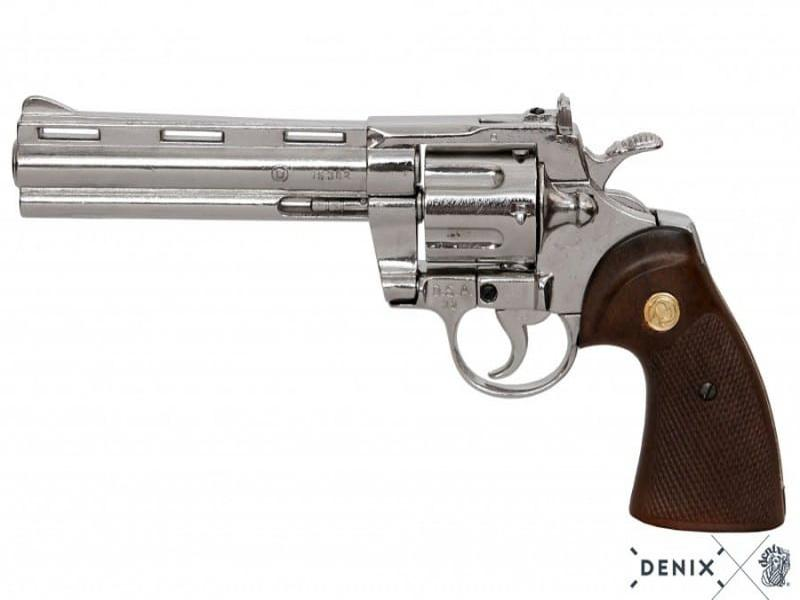Revolver: (9, 74, 797, 535)
